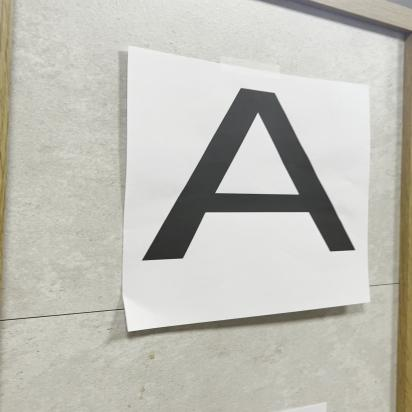seat: (137, 80, 370, 278)
